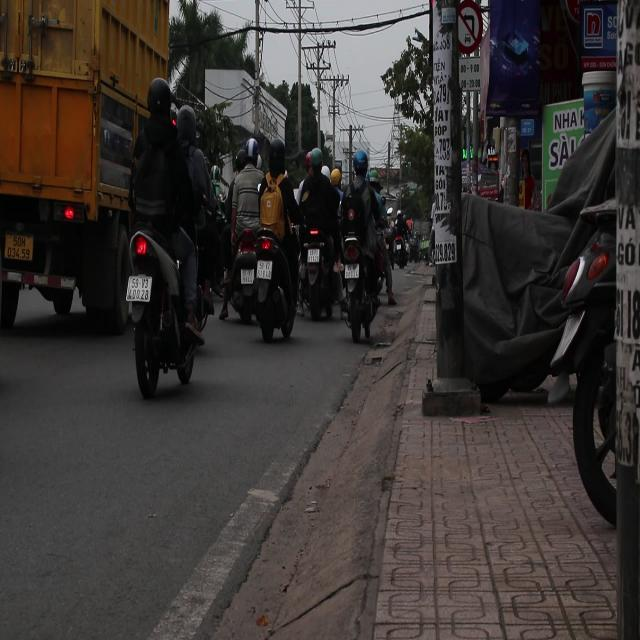motorbike: (124, 223, 204, 399), (224, 217, 300, 344), (342, 233, 382, 354), (301, 217, 336, 346), (389, 220, 412, 271)
truck: (0, 1, 153, 342)
